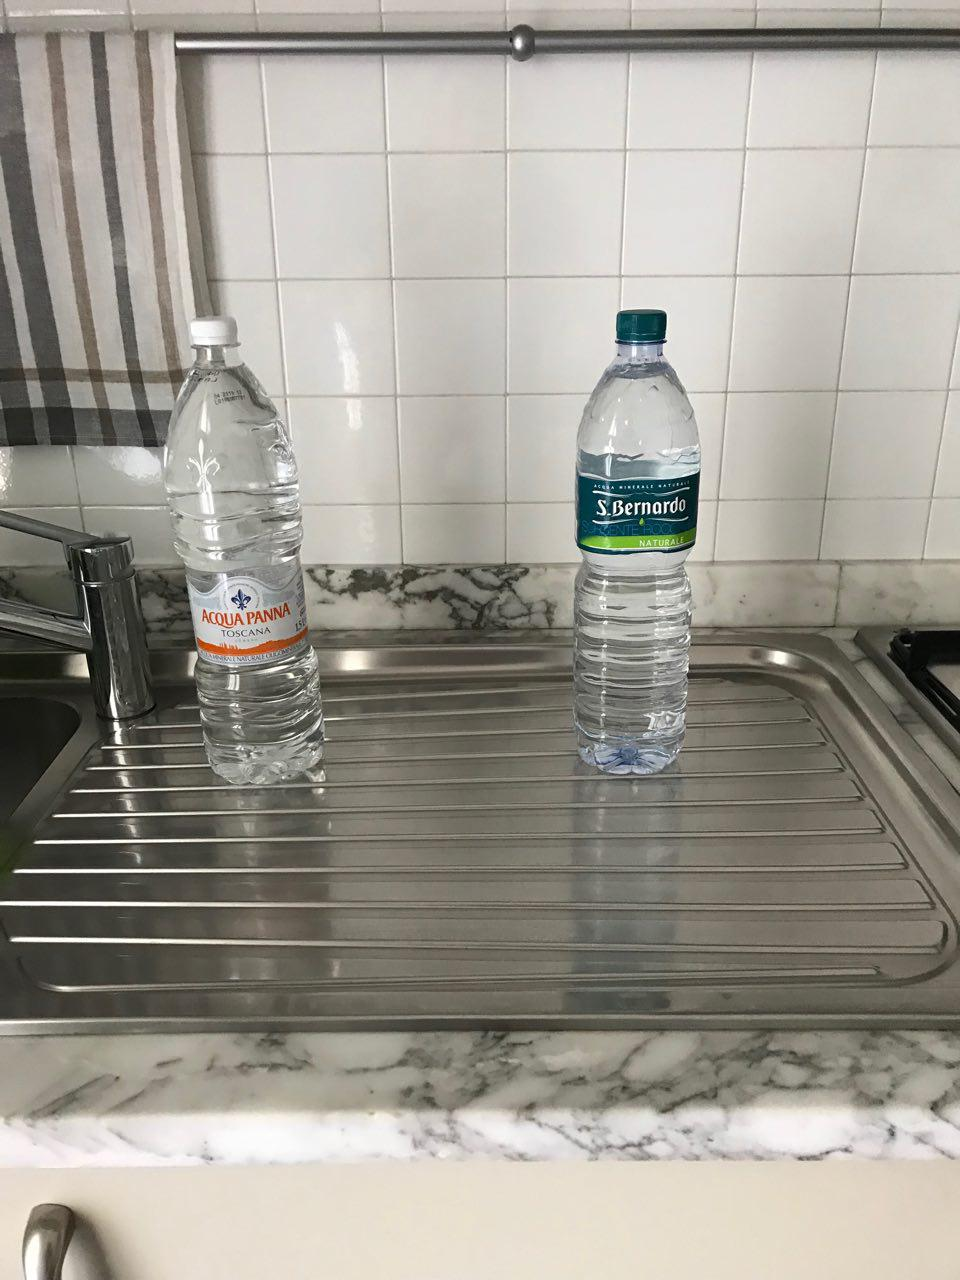san_bernardo: (572, 310, 701, 775)
